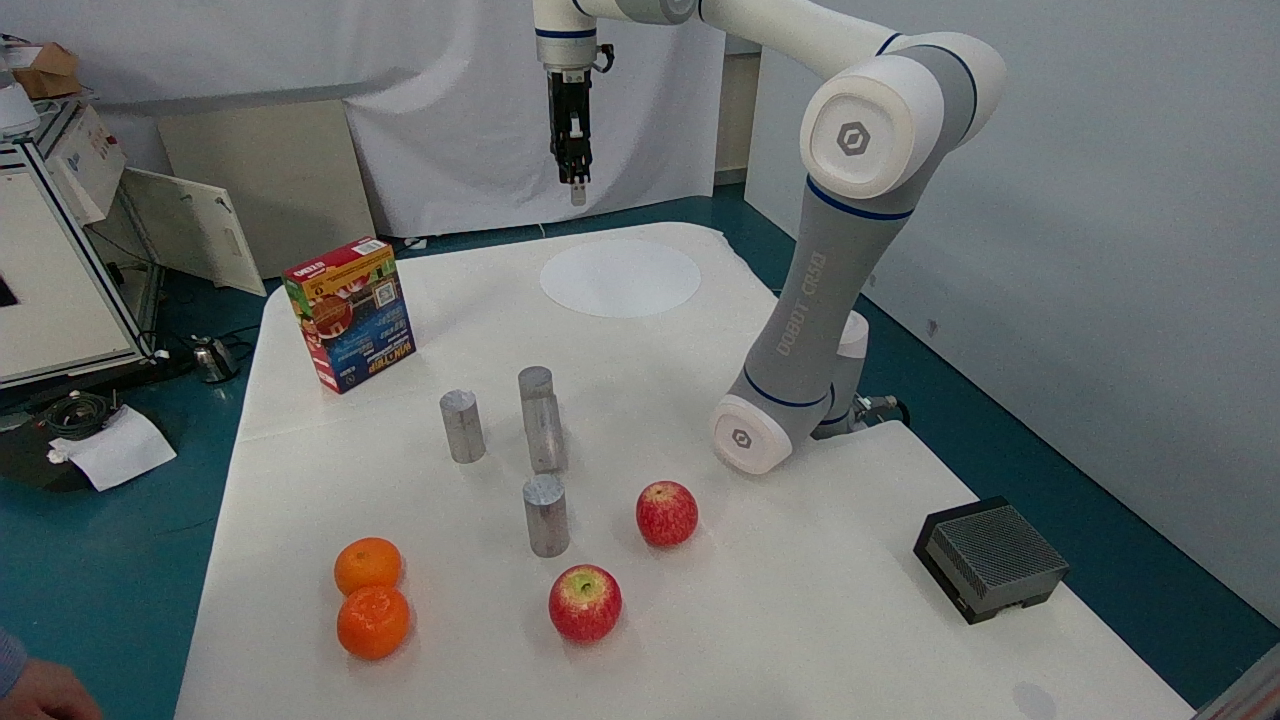apple: (542, 553, 627, 650), (621, 471, 712, 554)
metal rod: (509, 469, 581, 563), (425, 381, 492, 476), (516, 386, 582, 472)
orange: (318, 581, 437, 656), (325, 532, 424, 594)
